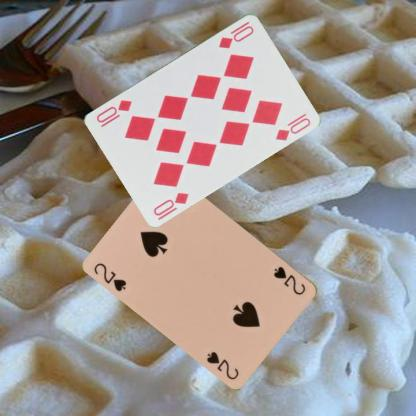10d: (151, 189, 190, 221), (216, 22, 255, 50)
2s: (271, 264, 307, 297), (92, 260, 128, 293)
